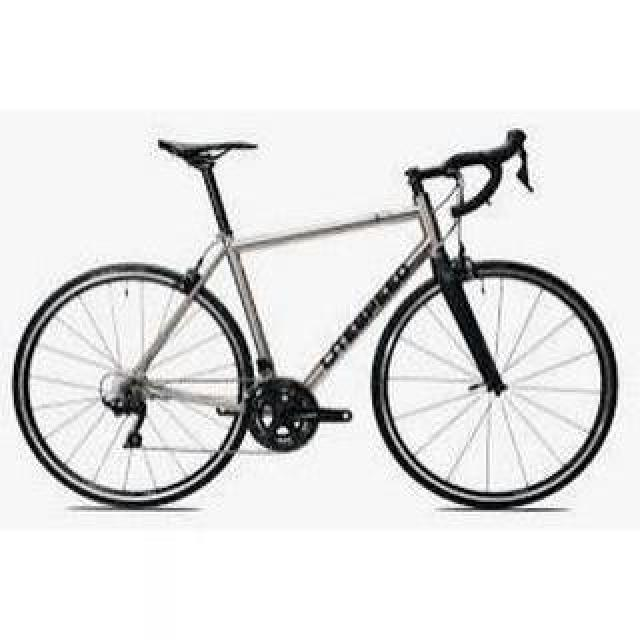Person: (10, 120, 620, 508)
